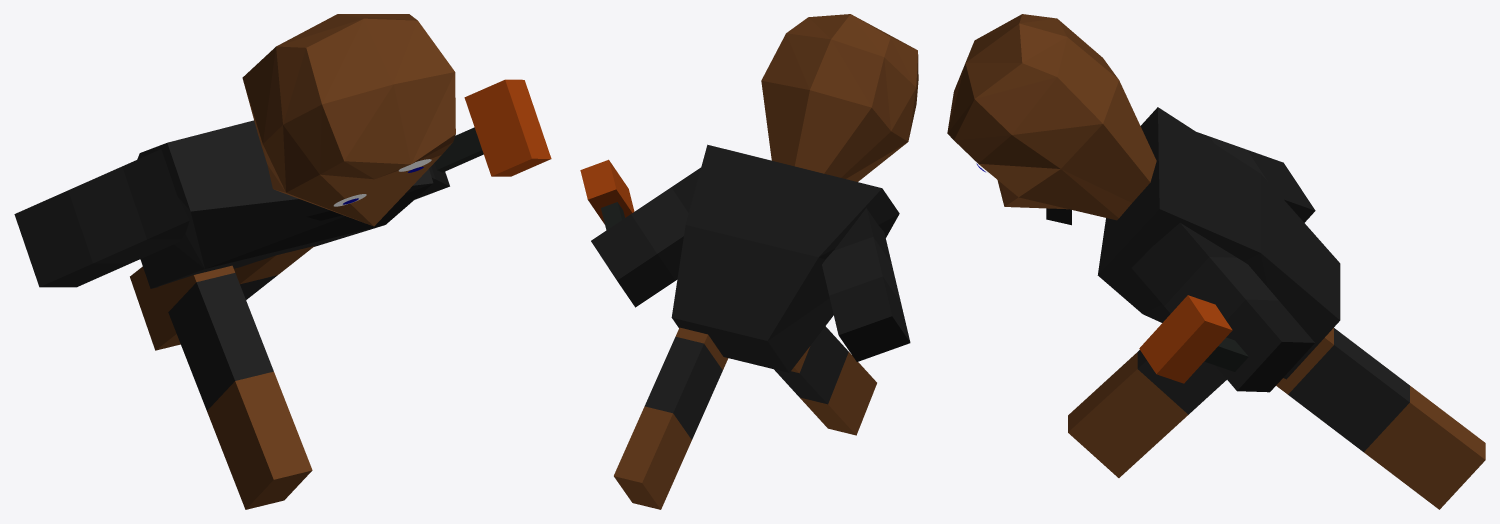
Rendered from servant1f.obj.
3 views of the same model, side by side, from view 1: azimuth 30°, elevation 25°; view 2: azimuth 150°, elevation 25°; view 3: azimuth 270°, elevation 25° (orthographic). The views are drawn at different scales.
Parts seen in each view (by area): view 1: Cube, Cube.001, Cube.004, Cube.003, Cube.008, Cube.005, Cube.007; view 2: Cube.001, Cube, Cube.005, Cube.003, Cube.002, Cube.004, Cube.008, Cube.007; view 3: Cube, Cube.001, Cube.005, Cube.002, Cube.004, Cube.008, Cube.003, Cube.007.
Boxes of the visible parts, box(x1,y1,x2,y2) form: Cube: box(242, 14, 455, 226); Cube.001: box(137, 120, 433, 288); Cube.004: box(158, 265, 312, 509); Cube.003: box(14, 149, 189, 287); Cube.008: box(464, 79, 551, 176); Cube.005: box(130, 246, 314, 350); Cube.007: box(434, 127, 483, 172); Cube.001: box(671, 144, 899, 372); Cube: box(761, 14, 918, 181); Cube.005: box(614, 327, 728, 509); Cube.003: box(822, 208, 910, 361); Cube.002: box(591, 167, 700, 307); Cube.004: box(774, 326, 876, 435); Cube.008: box(580, 159, 634, 224); Cube.007: box(601, 202, 624, 230); Cube: box(947, 14, 1156, 220); Cube.001: box(1097, 107, 1340, 379); Cube.005: box(1276, 328, 1485, 509); Cube.002: box(1132, 223, 1314, 392); Cube.004: box(1068, 350, 1226, 477); Cube.008: box(1139, 295, 1232, 383); Cube.003: box(1197, 132, 1315, 222); Cube.007: box(1204, 337, 1248, 371).
Bounding box in the file's own units: 4.16 × 4.4 × 4.61.
